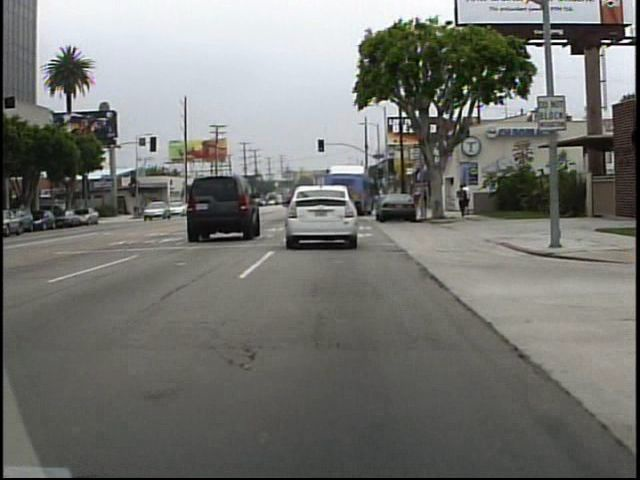person: (455, 185, 470, 223), (463, 183, 473, 217)
